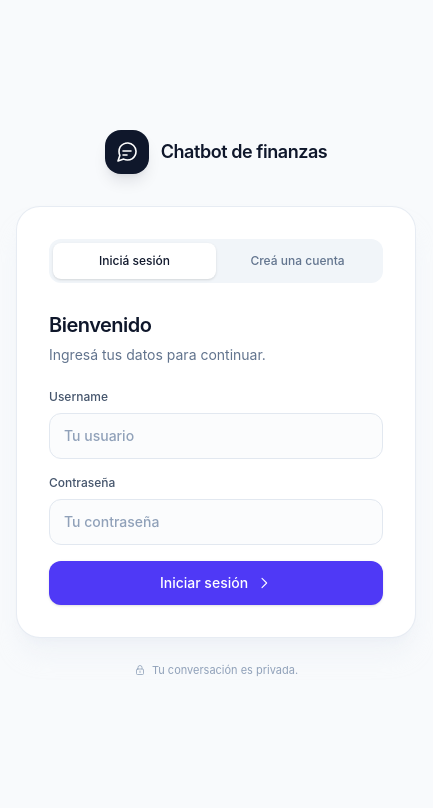
Test: access screens › validates repeated password before submitting registration
Click the button "Creá una cuenta" at (298, 261), box [216, 243, 379, 279]
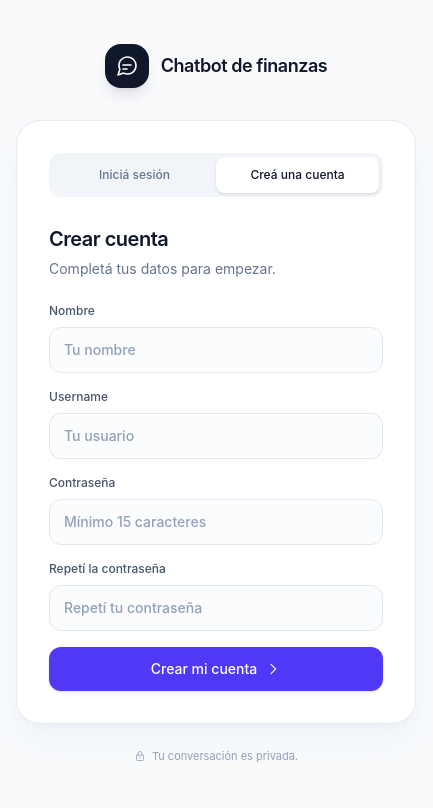
Type "long enough password" into the password field labelled "Contraseña" at (216, 522), box [49, 499, 383, 545]
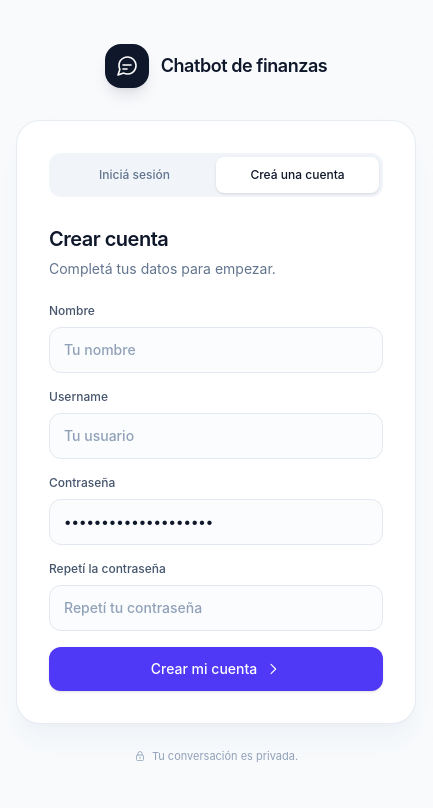
Type "different password" into the password field labelled "Repetí la contraseña" at (216, 608), box [49, 585, 383, 631]
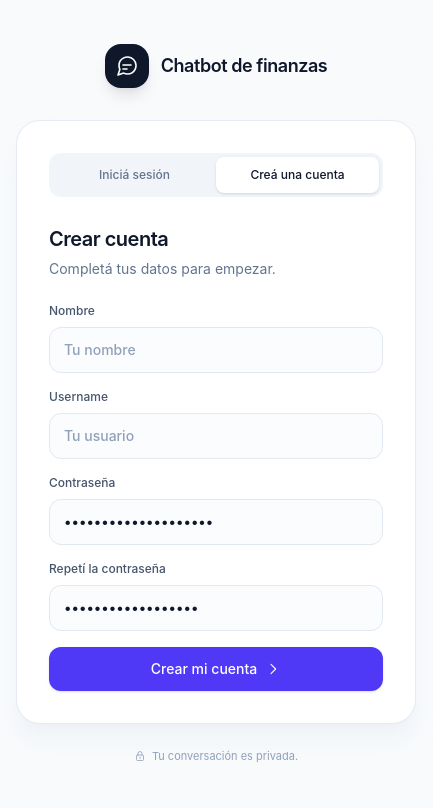
Submit the form "Crear mi cuenta", box [49, 303, 383, 691]
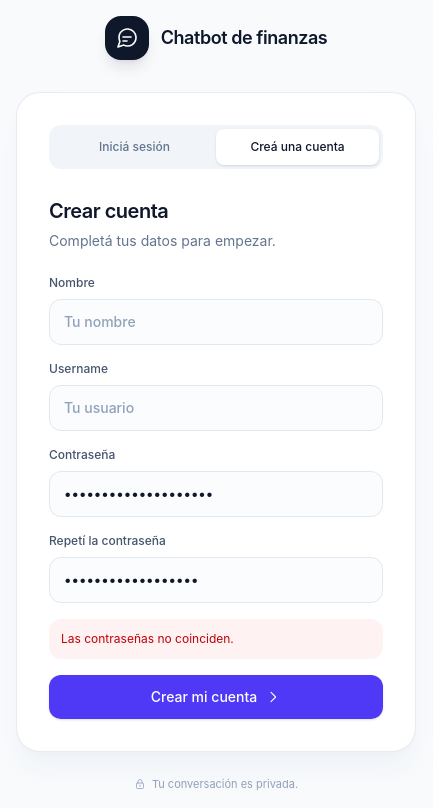
expect the message shows "no coinciden": met, box [61, 631, 234, 646]
